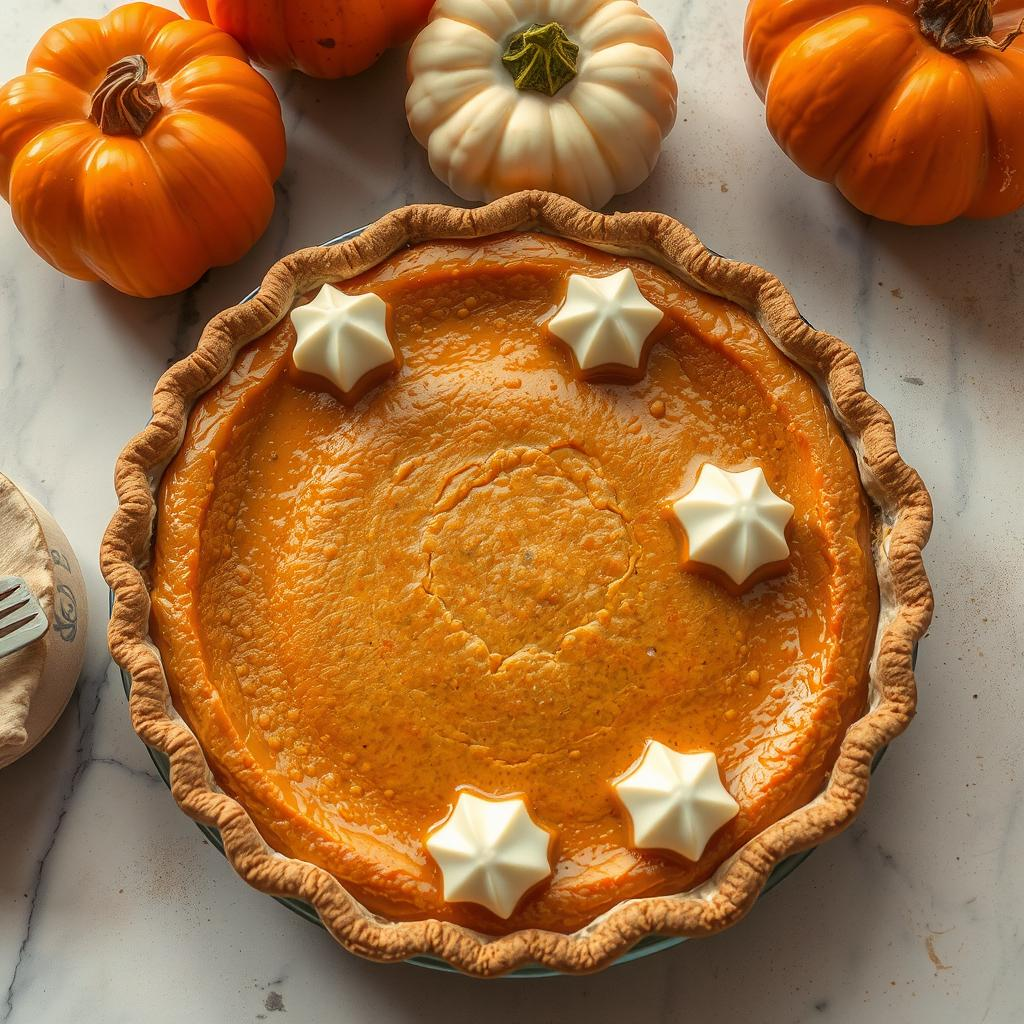pie: (96, 180, 940, 984)
